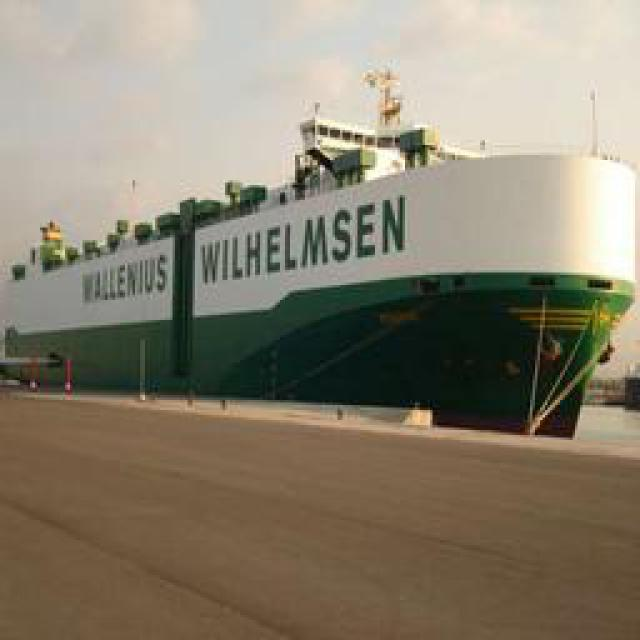Ship: (4, 65, 640, 453)
